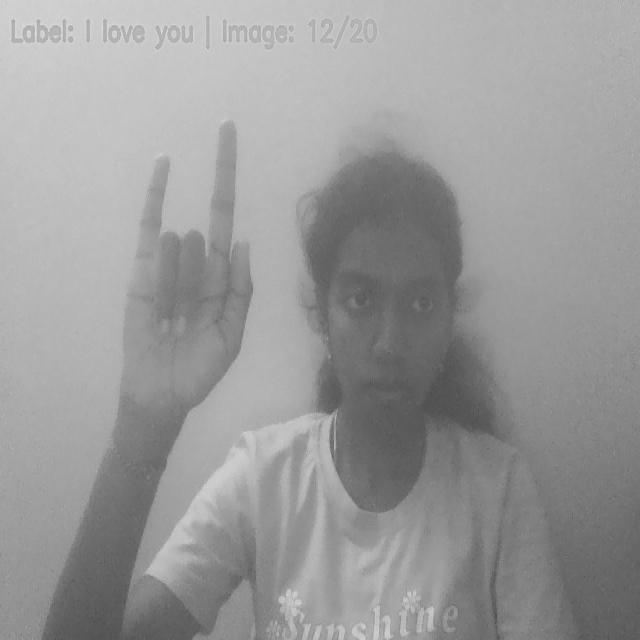I love you: (98, 113, 254, 414)
